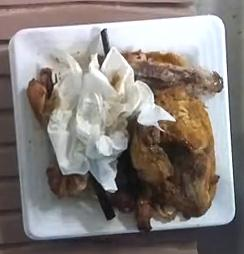fried_chicken: (130, 86, 219, 219)
